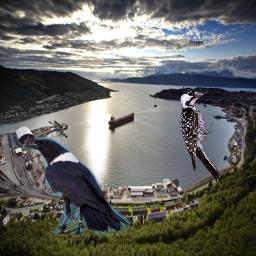Crow: (22, 137, 130, 236)
Woodpecker: (179, 90, 219, 183)
